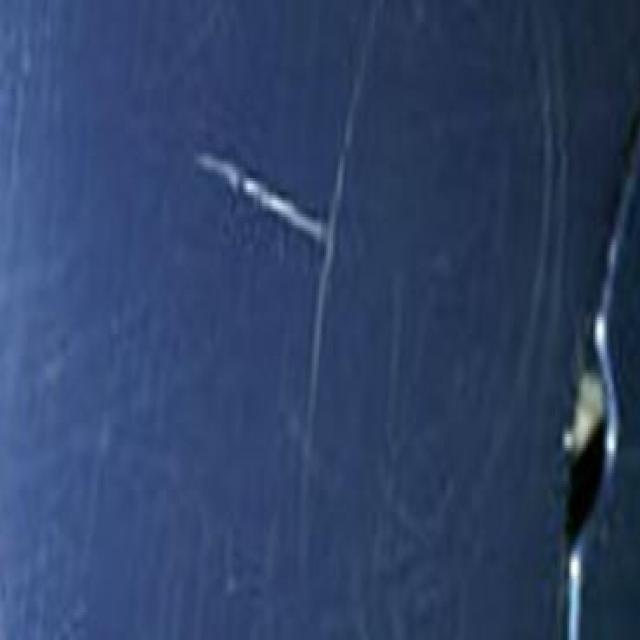scratch: (192, 139, 334, 251)
